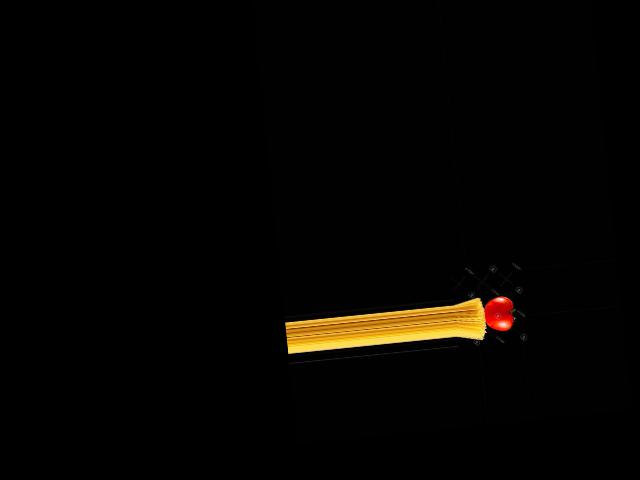tomato: (482, 296, 515, 332)
